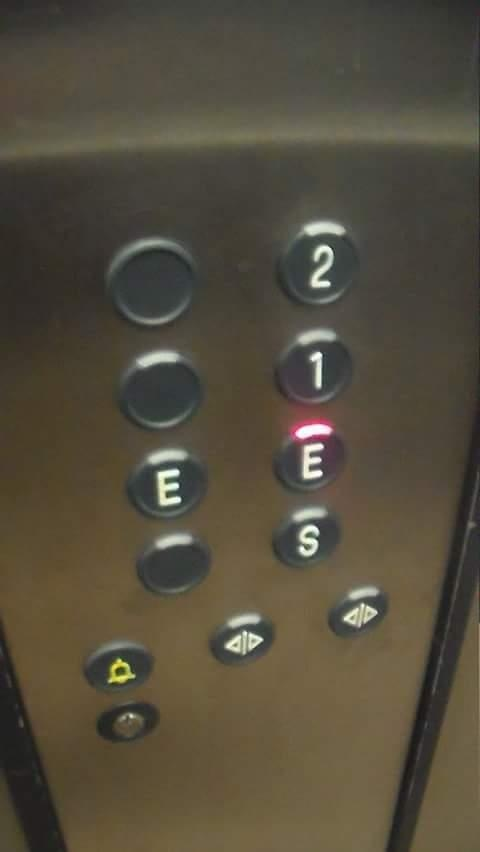1: (270, 323, 356, 411)
2: (272, 217, 363, 314)
E: (126, 445, 209, 527), (270, 419, 349, 498)
S: (270, 505, 342, 573)
alarm: (80, 640, 156, 696)
empty: (104, 231, 200, 331), (112, 346, 207, 435), (131, 534, 216, 599)
keyhole: (91, 699, 164, 747)
open: (206, 610, 279, 668), (326, 585, 393, 642)
